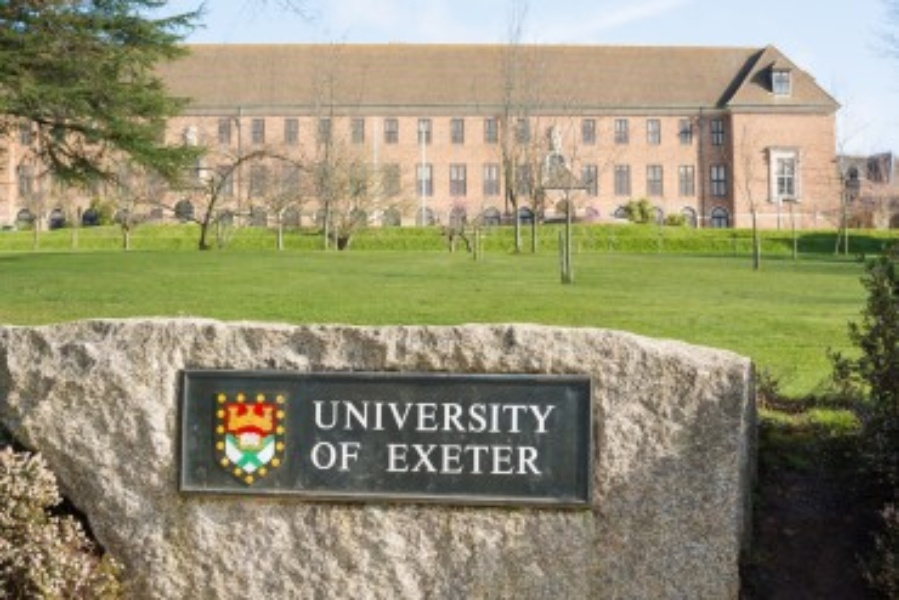text: (321, 399, 336, 433), (337, 399, 352, 433), (353, 399, 368, 433), (369, 399, 384, 433), (385, 399, 400, 433), (401, 399, 416, 433), (417, 399, 432, 433), (433, 399, 448, 433), (449, 399, 464, 433), (465, 399, 480, 433), (481, 399, 496, 433), (497, 399, 512, 433), (513, 399, 528, 433), (529, 399, 544, 433), (401, 443, 416, 477), (417, 443, 432, 477), (433, 443, 448, 477), (449, 443, 464, 477), (465, 443, 480, 477), (481, 443, 496, 477), (497, 443, 512, 477), (513, 443, 528, 477), (321, 440, 336, 472), (337, 440, 352, 472), (387, 443, 400, 477), (529, 443, 542, 477), (545, 399, 557, 433), (309, 440, 320, 472), (312, 399, 320, 433), (353, 440, 360, 472)
